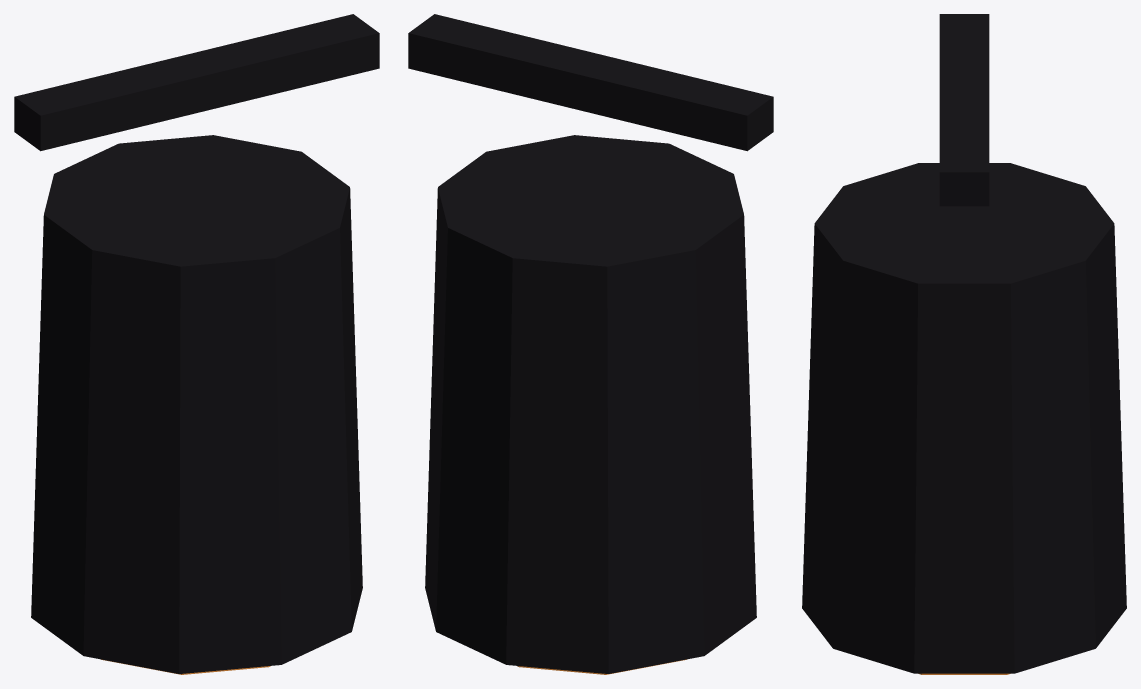
The model's file is PoolCan.obj.
3 renders of one model, left to right at view 1: azimuth 30°, elevation 25°; view 2: azimuth 150°, elevation 25°; view 3: azimuth 270°, elevation 25°, orthographic. The views are drawn at different scales.
Parts seen in each view (by area): view 1: PoolCan; view 2: PoolCan; view 3: PoolCan.
Part boxes in pixels (<box>): PoolCan: <box>14,14,379,674</box>; PoolCan: <box>408,14,773,674</box>; PoolCan: <box>802,14,1126,674</box>.
Size of the model in its own units: 0.3 by 0.465 by 0.26.
2 materials, 2 textured.
